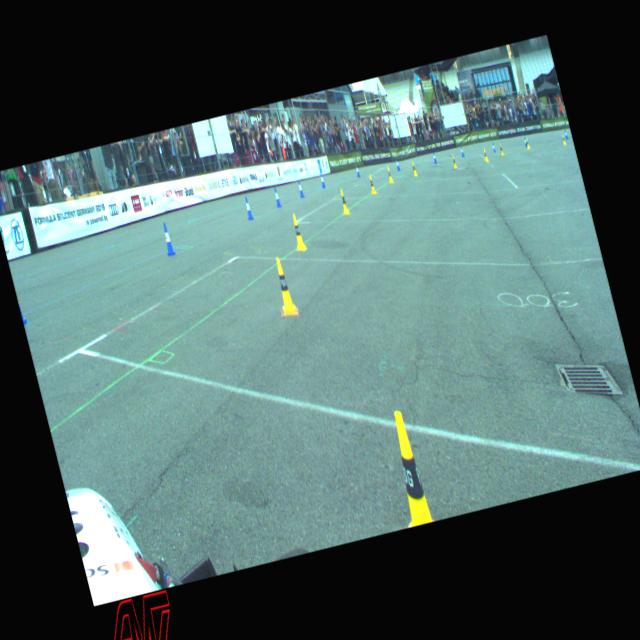blue_cone: (160, 222, 175, 256), (17, 297, 28, 324), (242, 196, 254, 220), (272, 186, 282, 206), (296, 180, 304, 197), (318, 172, 326, 188), (394, 157, 400, 170), (354, 164, 360, 176), (459, 145, 464, 156), (432, 151, 436, 162), (492, 142, 496, 152), (523, 137, 527, 146), (564, 130, 568, 138)
yellow_cone: (380, 408, 432, 526), (270, 256, 297, 316), (290, 213, 306, 250), (338, 188, 350, 214), (367, 174, 376, 194), (386, 166, 394, 183), (410, 160, 417, 177), (482, 148, 488, 161), (498, 142, 504, 155), (451, 154, 456, 168), (562, 134, 566, 144), (526, 138, 530, 148)
